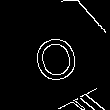O_N: (28, 23, 83, 83)
